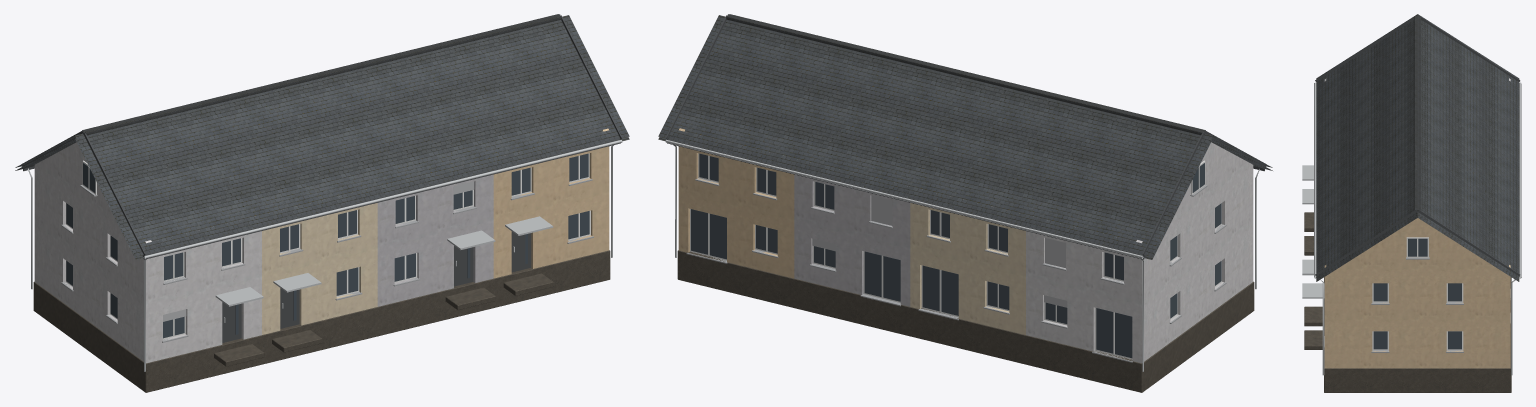
Rendered from house-terrace-row.glb.
3 views of the same model, side by side, from view 1: azimuth 30°, elevation 25°; view 2: azimuth 150°, elevation 25°; view 3: azimuth 270°, elevation 25° (orthographic). The views are drawn at different scales.
Parts seen in each view (by area): view 1: house-terrace-row-plaster0; view 2: house-terrace-row-plaster0; view 3: house-terrace-row-plaster0.
Part boxes in pixels (left/top/right/bottom): house-terrace-row-plaster0: left=15, top=14, right=629, bottom=392; house-terrace-row-plaster0: left=658, top=14, right=1272, bottom=392; house-terrace-row-plaster0: left=1302, top=14, right=1521, bottom=392.
Bounding box in the file's own units: 25.6 × 11.02 × 11.78.
Materials: 13 (7 with a texture image).
